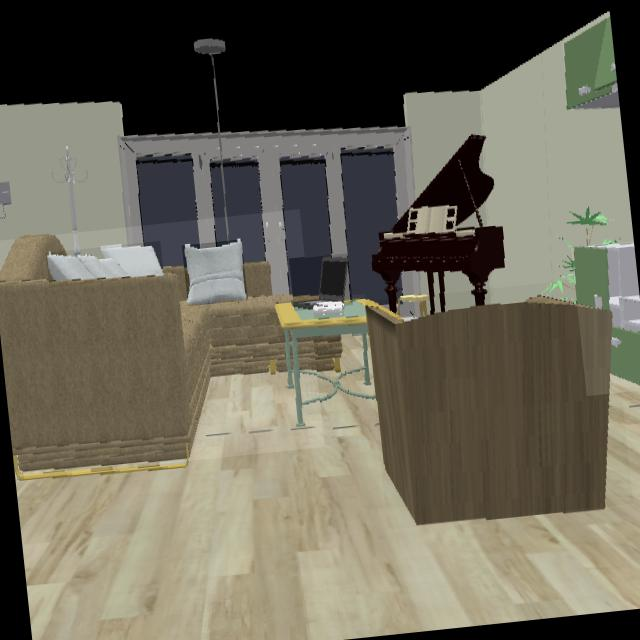book: (313, 303, 343, 316)
cabinet: (574, 248, 640, 386), (563, 13, 618, 110)
laptop: (293, 254, 350, 309)
pillow: (47, 245, 163, 282), (184, 241, 246, 306)
sofa: (0, 235, 309, 477), (363, 300, 614, 526)
table: (274, 301, 368, 337)
